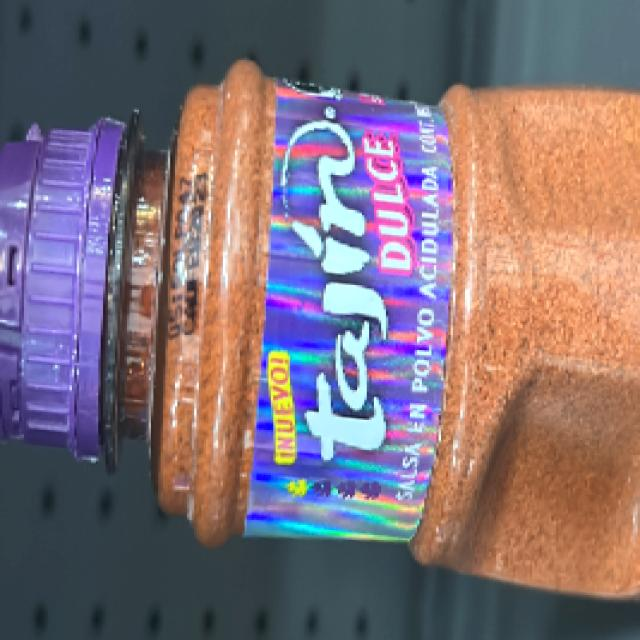tajinDulce: (9, 76, 632, 550)
